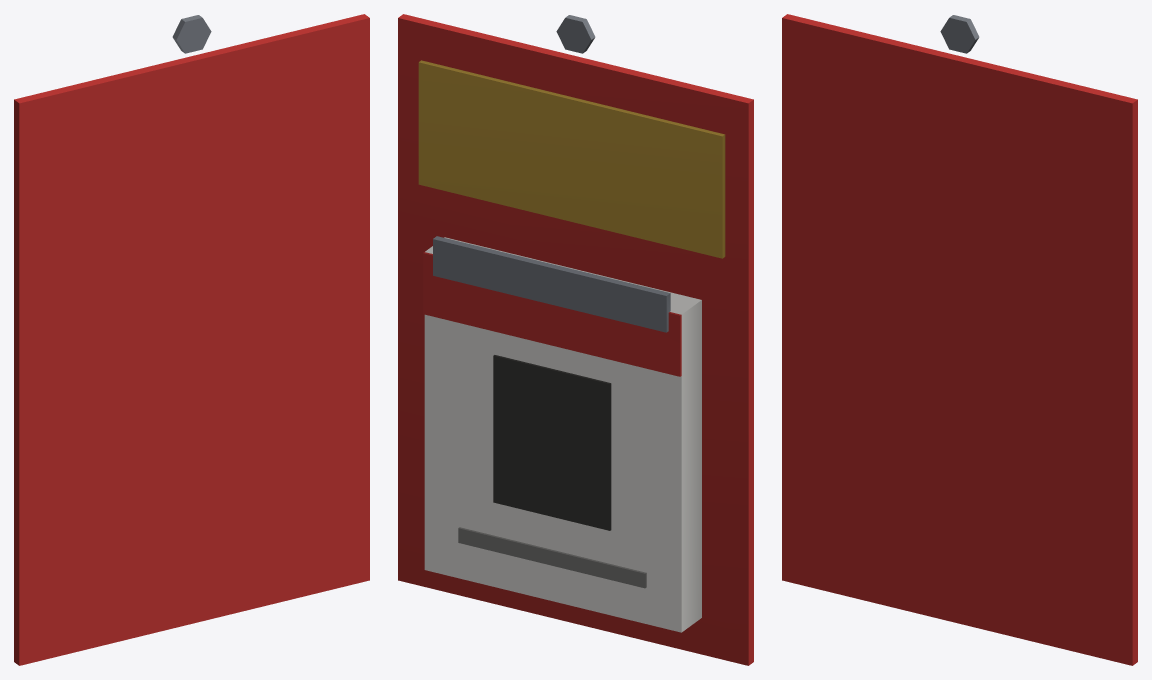
File: calendar_wall_01.glb
3 renders of one model, left to right at view 1: azimuth 30°, elevation 25°; view 2: azimuth 150°, elevation 25°; view 3: azimuth 330°, elevation 25°, orthographic.
Parts seen in each view (by area): view 1: calendar_wall_01_mesh; view 2: calendar_wall_01_mesh; view 3: calendar_wall_01_mesh.
Boxes of the visible parts, box(x1,y1,x2,y2) form: calendar_wall_01_mesh: box(14, 14, 369, 665); calendar_wall_01_mesh: box(398, 14, 753, 665); calendar_wall_01_mesh: box(782, 14, 1137, 665).
Size of the model in its own units: 0.3 by 0.493 by 0.043.
Materials: 1 (1 with a texture image).
